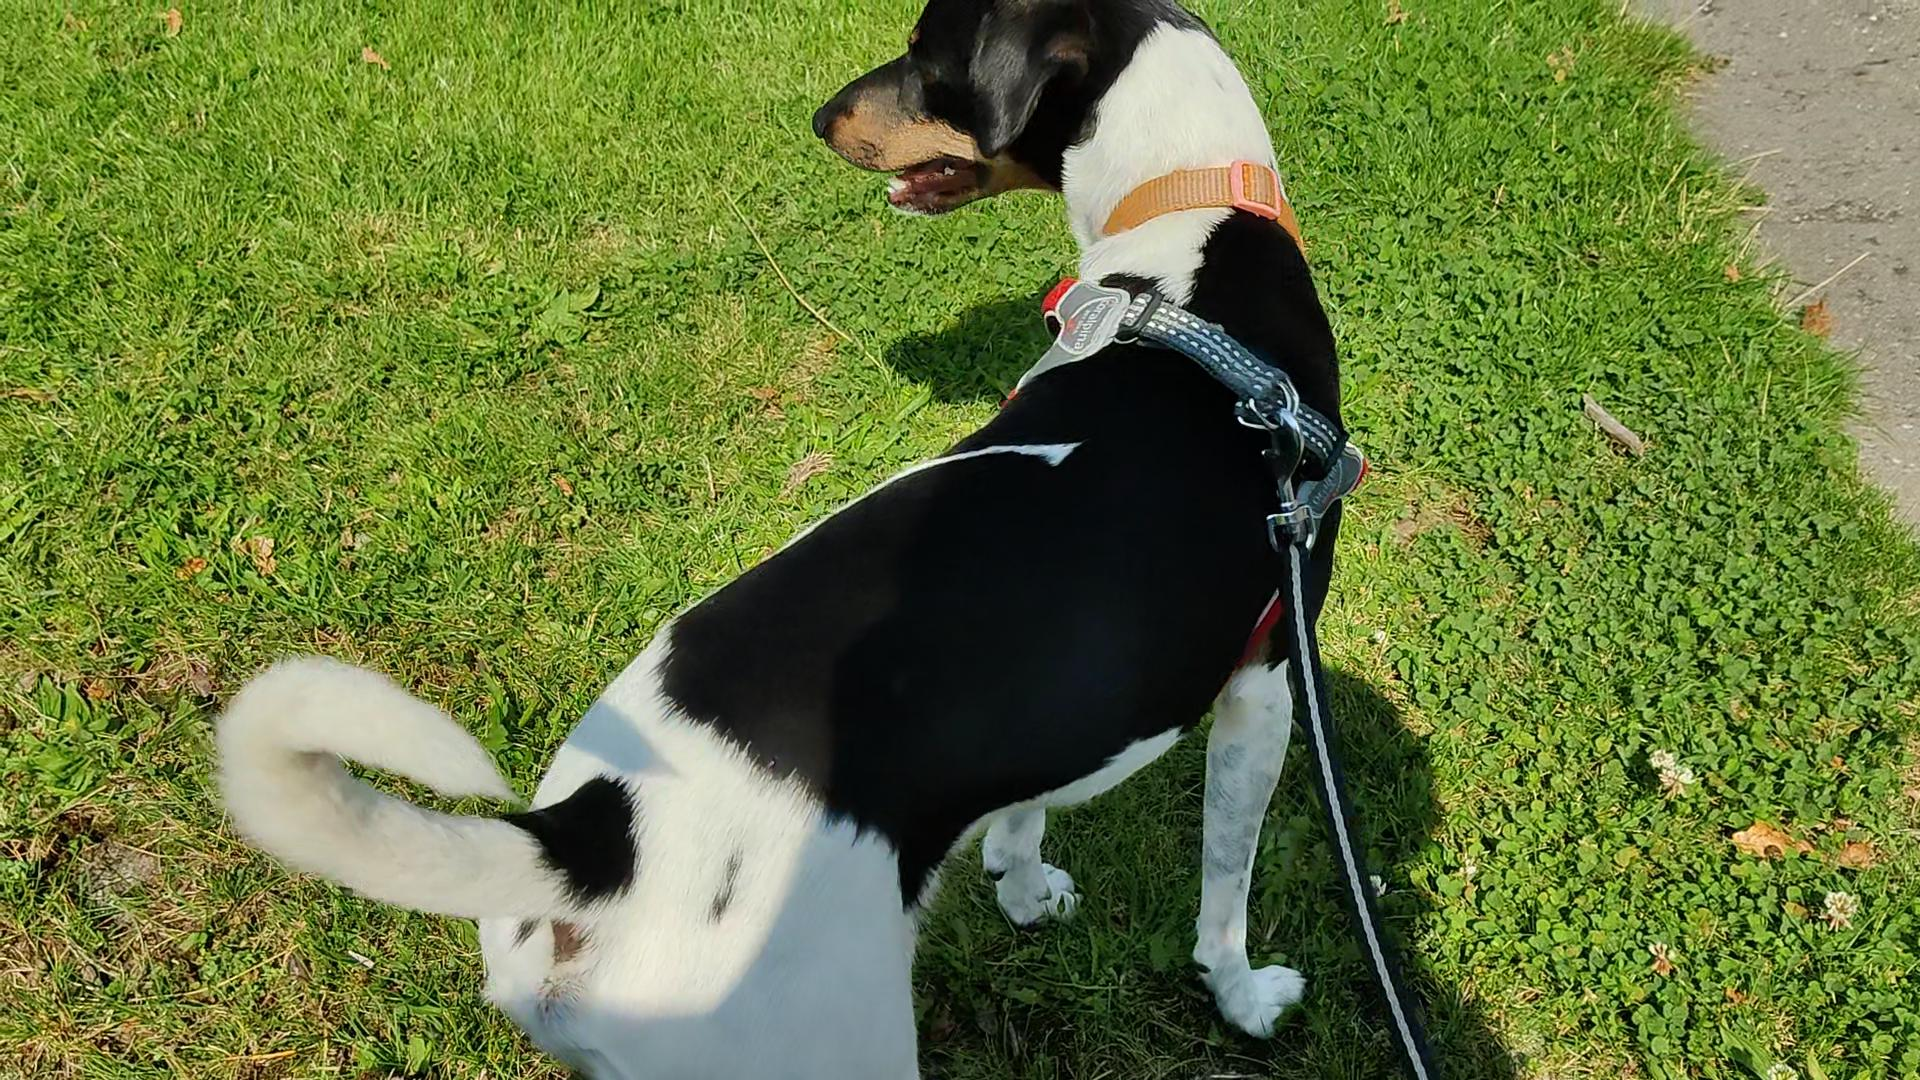Dog: (208, 0, 1352, 1079)
